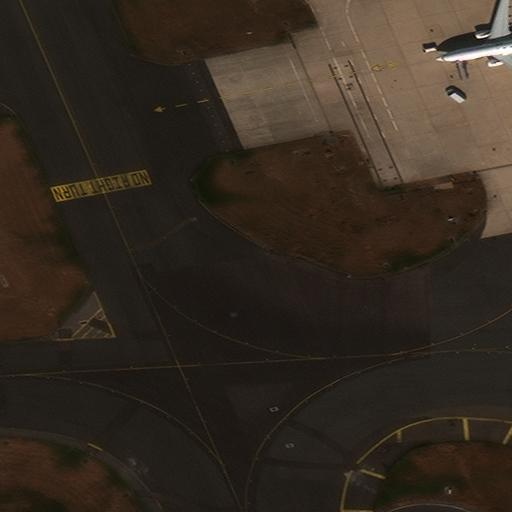Medium Civil Transport: (436, 0, 512, 83)
